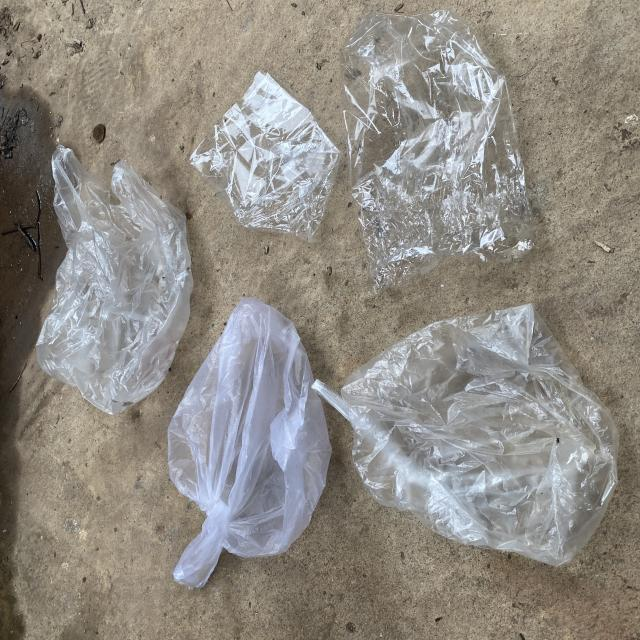Single-layer Plastic: (312, 304, 619, 566), (341, 10, 532, 291), (168, 298, 331, 589), (36, 145, 192, 414), (190, 72, 339, 241)
